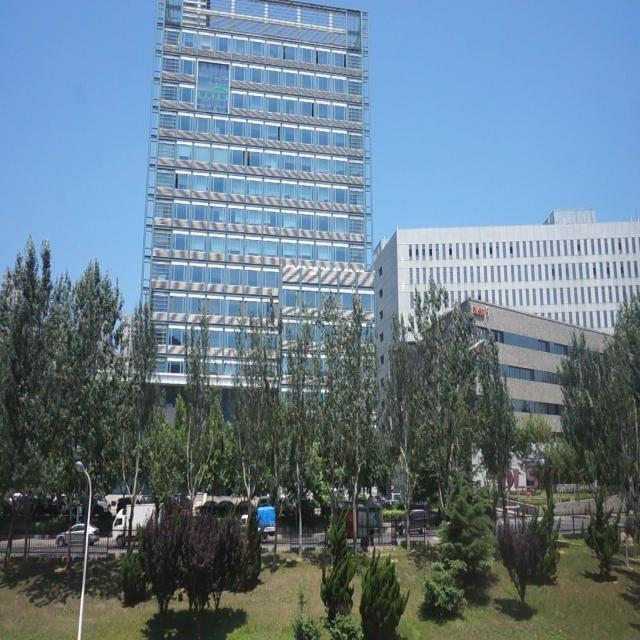UAV: (468, 338, 486, 352)
